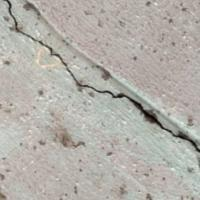crack: (3, 0, 199, 171)
